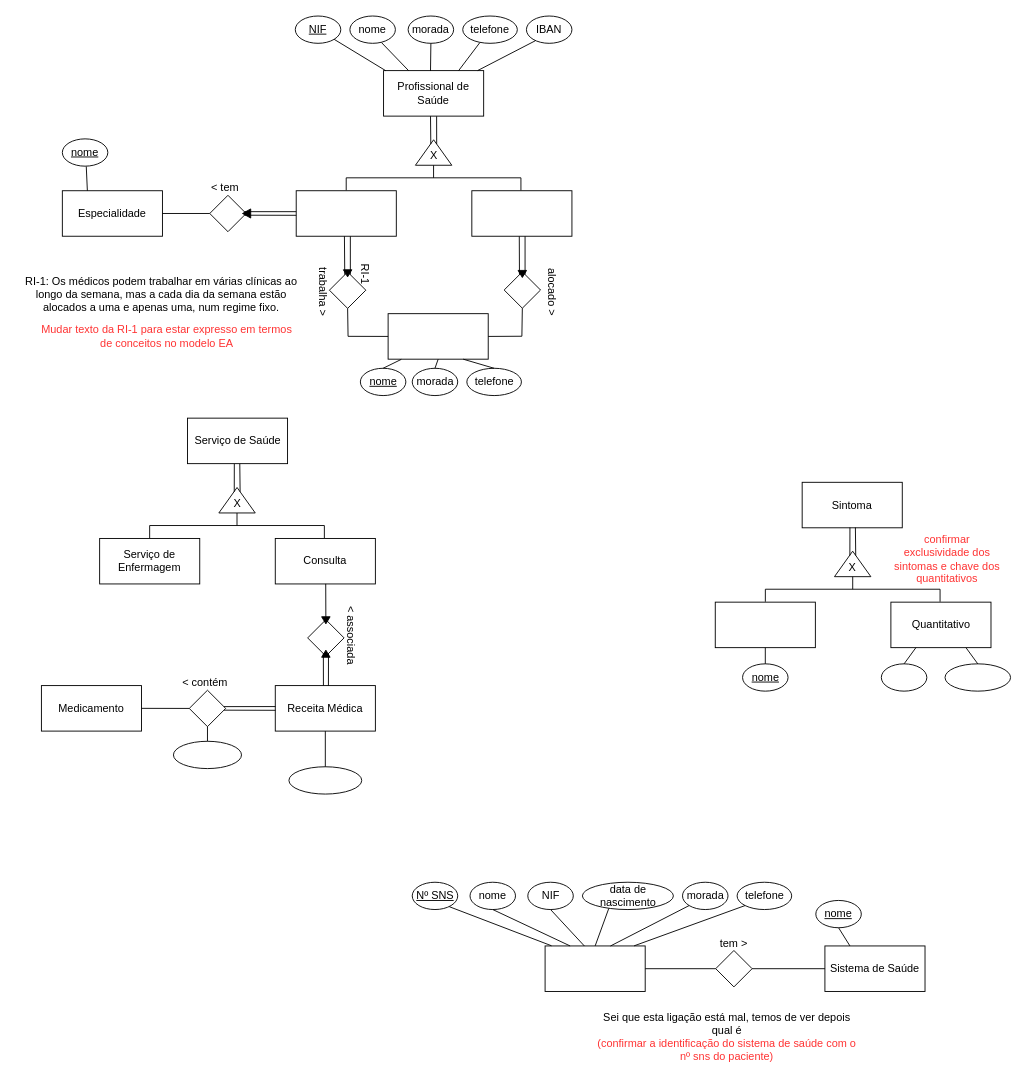
Some shapes in this 1026 by 1089 pixel diagram are drawn without their labels. The shapes that lost their labels are listed below. From the top down, each one's box as (x1, y1, x2, y2) in pixels, then its label:
(295, 190, 396, 236): Médico
(471, 190, 572, 236): Enfermeiro
(387, 313, 488, 359): Clínica
(714, 601, 815, 648): Qualitativo
(880, 663, 927, 691): valor
(944, 663, 1011, 691): parâmetro
(173, 740, 242, 769): quantidade
(288, 766, 362, 794): Código SNS
(544, 945, 645, 991): Paciente
